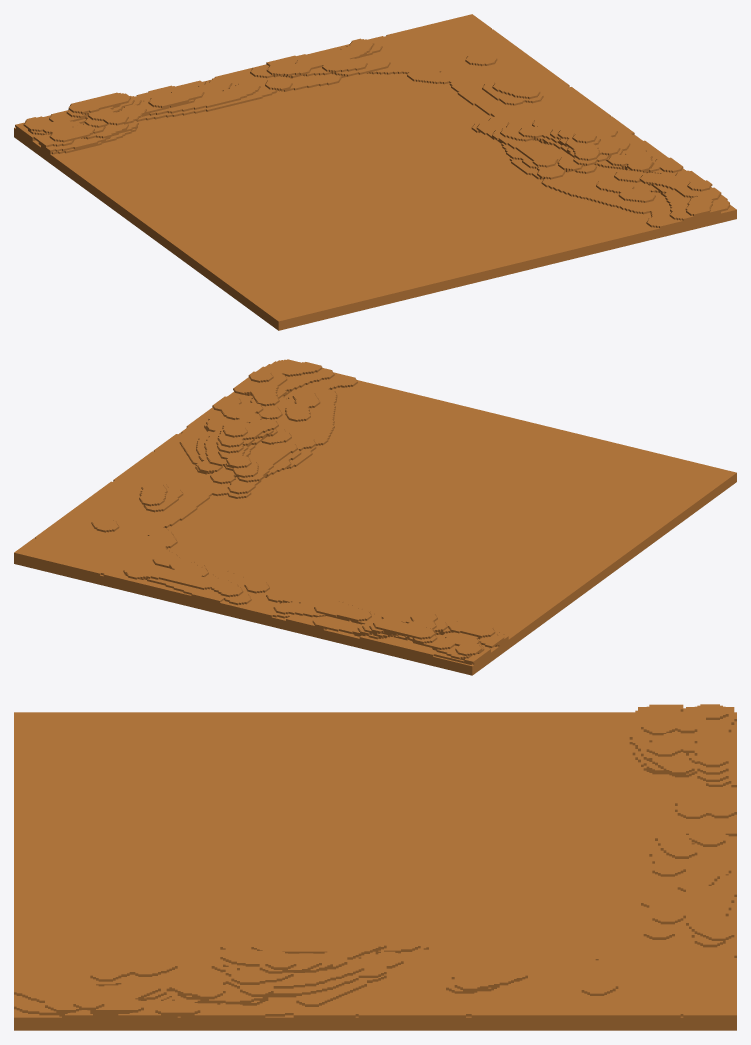
Rendered from land-sand-2.obj.
The picture shows the model from 3 angles, top to bottom: view 1: azimuth 30°, elevation 25°; view 2: azimuth 150°, elevation 25°; view 3: azimuth 270°, elevation 25°; orthographic projection. The views are drawn at different scales.
Bounding box in the file's own units: 25.6 × 1.3 × 25.6.
Materials: 1 (1 with a texture image).
